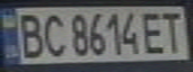1: (103, 9, 124, 56)
4: (118, 9, 142, 55)
6: (87, 9, 109, 56)
8: (66, 10, 90, 56)
B: (15, 9, 45, 60)
C: (39, 10, 69, 58)
E: (139, 8, 169, 55)
T: (157, 8, 187, 54)
